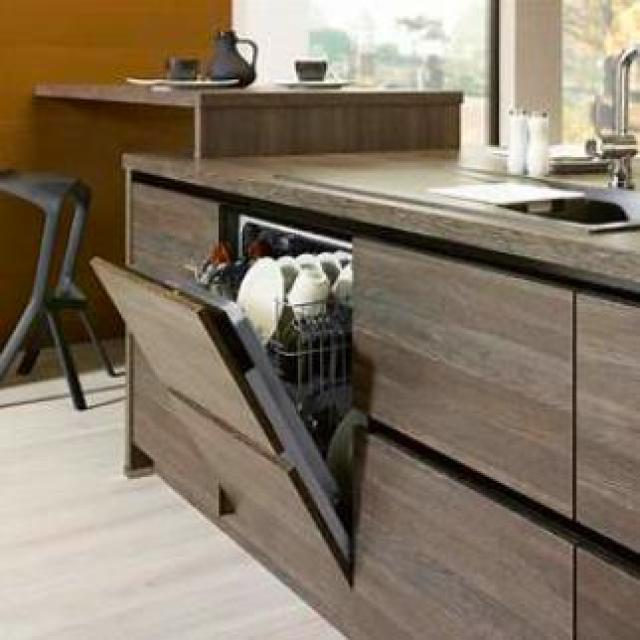dishwasher: (87, 195, 356, 584)
